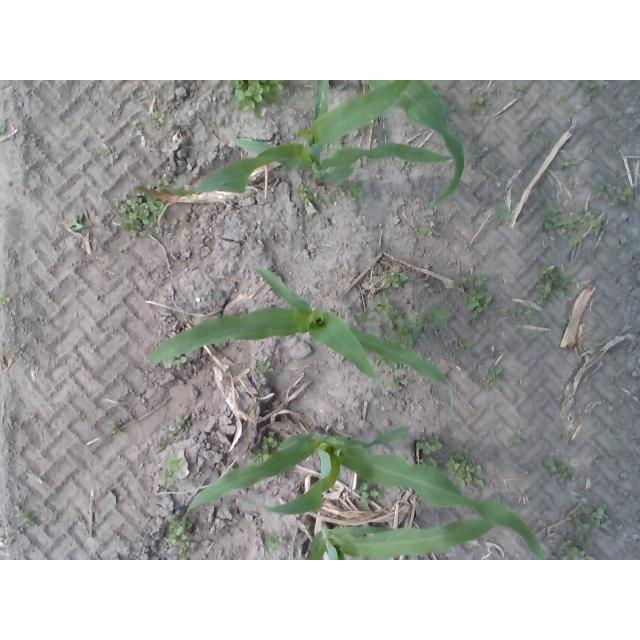Maize: (184, 424, 547, 559), (149, 268, 451, 389), (163, 80, 453, 193), (366, 80, 462, 210), (305, 521, 495, 560)
Weeds: (231, 80, 285, 113), (120, 197, 164, 230), (447, 450, 486, 486), (540, 265, 575, 299), (562, 540, 597, 561), (546, 458, 575, 482), (467, 288, 494, 312), (397, 311, 415, 345), (427, 305, 453, 328), (382, 268, 409, 288), (416, 435, 443, 453), (568, 212, 588, 233), (516, 304, 535, 325), (345, 180, 364, 201), (266, 531, 287, 549), (378, 297, 394, 320), (357, 483, 373, 506), (169, 520, 183, 544), (541, 208, 563, 223), (592, 503, 604, 529), (544, 221, 565, 235), (17, 511, 35, 527), (164, 457, 185, 470), (477, 97, 492, 115), (496, 204, 512, 220), (616, 185, 633, 200), (69, 215, 83, 232), (515, 84, 528, 102), (249, 448, 267, 461), (454, 275, 469, 290), (258, 362, 275, 375), (361, 309, 375, 324), (152, 111, 166, 125), (263, 436, 278, 449), (511, 429, 523, 445), (469, 275, 488, 285), (421, 229, 440, 239), (459, 341, 473, 354), (171, 418, 185, 431), (154, 436, 167, 450), (575, 518, 590, 530), (577, 505, 593, 516), (590, 217, 602, 231), (159, 474, 174, 485), (589, 82, 607, 91), (296, 186, 309, 198), (105, 421, 117, 434), (109, 487, 118, 504), (391, 378, 408, 387), (164, 427, 177, 438), (179, 542, 189, 555), (414, 318, 422, 334), (491, 367, 502, 378), (1, 295, 12, 306), (611, 525, 622, 536), (551, 552, 566, 560), (483, 376, 493, 388), (585, 208, 595, 220), (564, 160, 580, 167), (601, 183, 612, 193), (564, 316, 573, 327), (501, 306, 510, 316), (322, 189, 331, 199), (602, 520, 613, 528), (162, 177, 170, 187), (587, 539, 595, 549), (569, 238, 579, 246), (578, 534, 586, 543), (385, 322, 393, 331), (309, 192, 318, 200), (102, 150, 110, 158), (471, 318, 478, 326), (393, 309, 398, 316)
